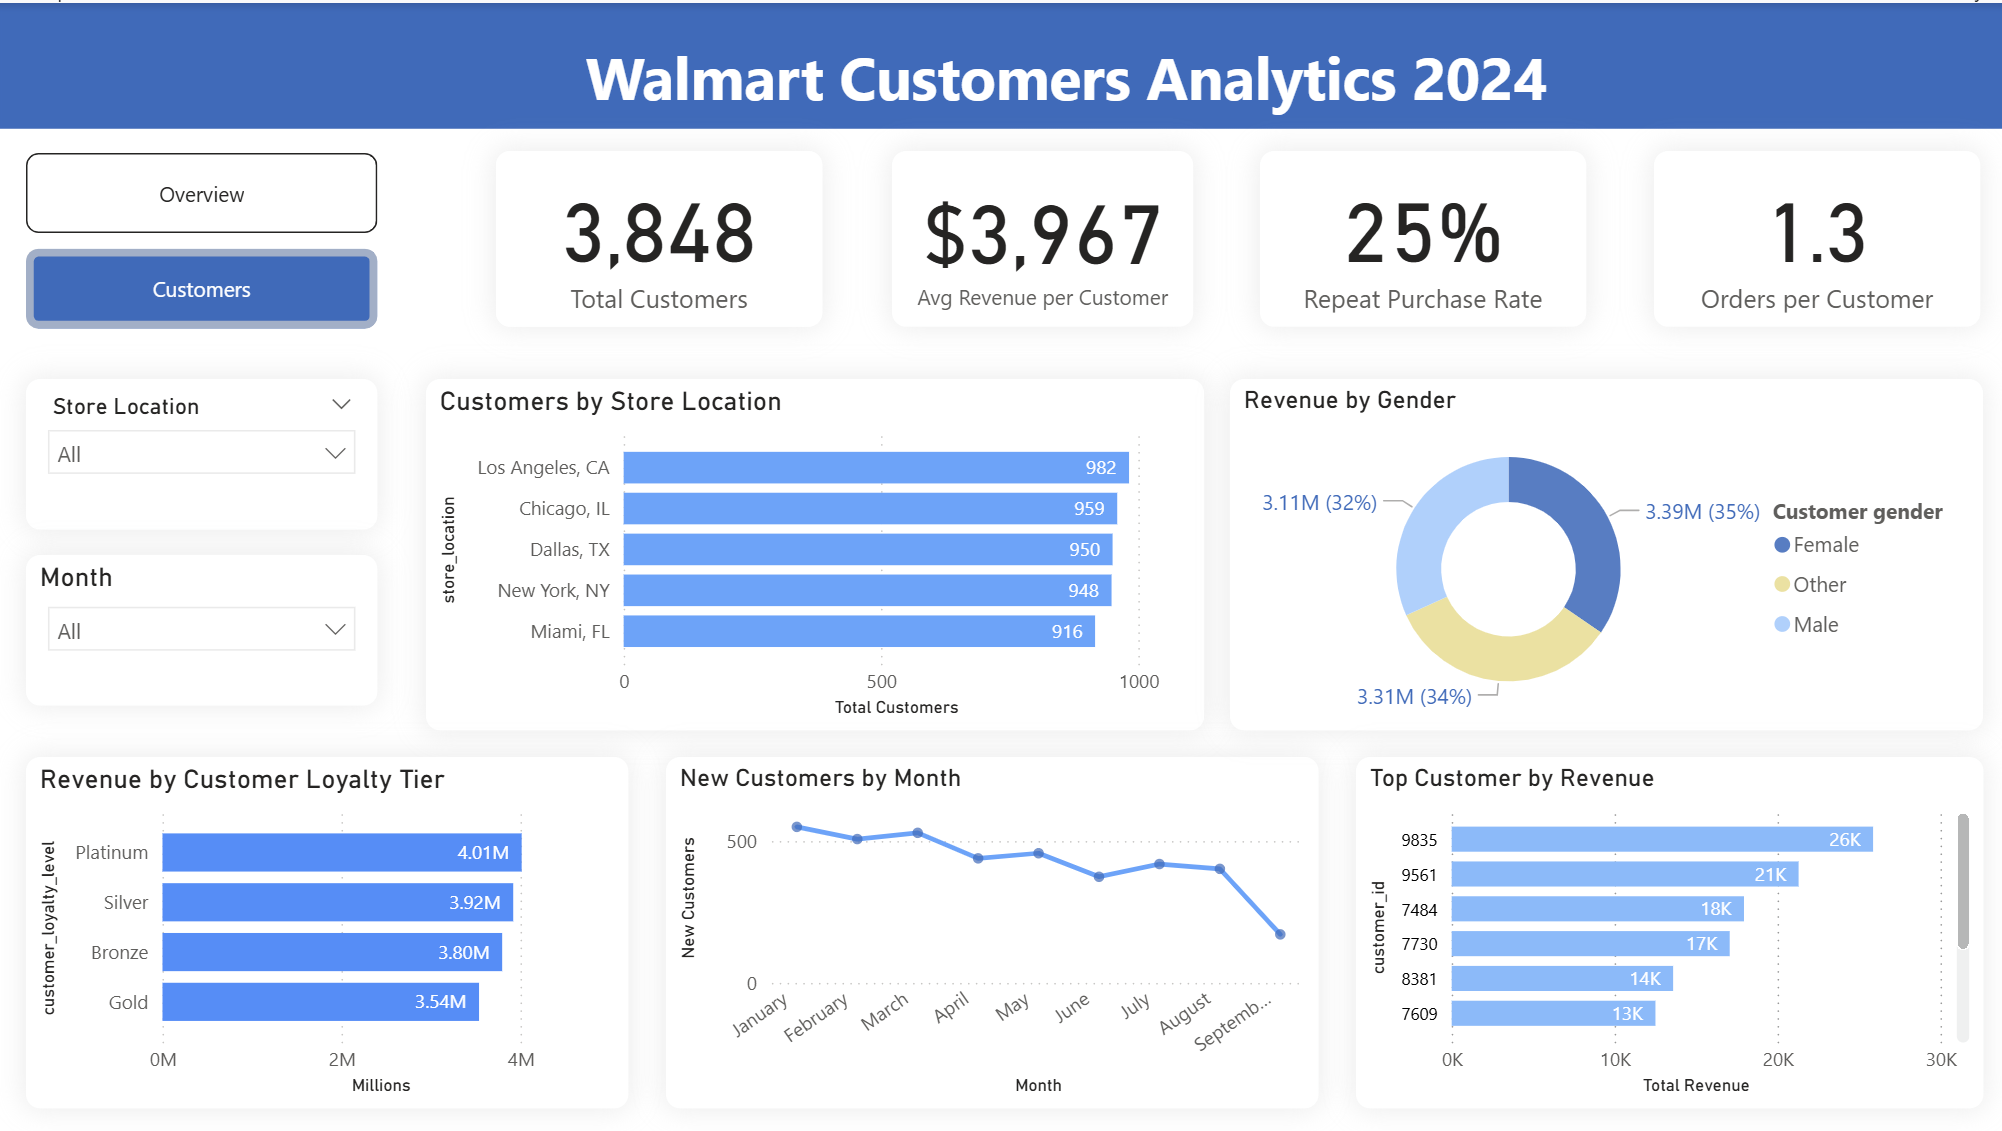

The page's visual inventory and layout, read from the dashboard file:
{"tool":"powerbi","page":{"name":"Customers","canvas":[1280,720],"ordinal":1},"visuals":[{"type":"shape","box":[0,0,1280,80],"z":0},{"type":"textbox","box":[368,16,688,60],"z":1000},{"type":"card","fields":{"Values":["Walmart.Avg Revenue per Customer"]},"box":[568.9,94.3,192,112],"z":2000},{"type":"card","fields":{"Values":["Walmart.Repeat Purchase Rate"]},"box":[803.6,94.3,208,112],"z":3000},{"type":"card","fields":{"Values":["Walmart.Total Customers"]},"box":[316.4,94.8,208,112],"z":4000},{"type":"slicer","fields":{"Values":["Walmart.store_location"]},"box":[16,240,224,96],"z":5000},{"type":"clusteredBarChart","title":"Customers by Store Location","fields":{"Category":["Walmart.store_location"],"Y":["Walmart.Total Customers"]},"box":[272,240,496,224],"z":6000},{"type":"slicer","title":"Month","fields":{"Values":["Walmart.transaction_date.Variation.Date Hierarchy.Month"]},"box":[16,352,224,96],"z":7000},{"type":"pageNavigator","box":[16,96,224,112],"z":8000},{"type":"lineChart","title":"New Customers by Month","fields":{"Category":["Walmart.transaction_date.Variation.Date Hierarchy.Month"],"Y":["Walmart.New Customers"]},"box":[424,480,416,224],"z":9000},{"type":"clusteredBarChart","title":"Revenue by Customer Loyalty Tier","fields":{"Category":["Walmart.customer_loyalty_level"],"Y":["Sum(Walmart.Revenue)"]},"box":[16,480,384,224],"z":10000},{"type":"donutChart","title":"Revenue by Gender","fields":{"Category":["Walmart.customer_gender"],"Y":["Walmart.Total Revenue"]},"box":[784,240,480,224],"z":11000},{"type":"card","fields":{"Values":["Walmart.Orders per Customer"]},"box":[1054.2,94.3,208,112],"z":12000},{"type":"barChart","title":"Top Customer by Revenue","fields":{"Category":["Walmart.customer_id"],"Y":["Walmart.Total Revenue"]},"box":[864,480,400,224],"z":13000}]}

Visuals, with their boxes in screenshot pixels (x1, y1, x2, y2), scaled from the page's 1280x720 canvas onto the 2002x1131 screenshot:
shape: box=[0, 0, 2001, 126]
textbox: box=[576, 25, 1652, 119]
card - Walmart.Avg Revenue per Customer: box=[890, 148, 1190, 324]
card - Walmart.Repeat Purchase Rate: box=[1257, 148, 1582, 324]
card - Walmart.Total Customers: box=[495, 149, 820, 325]
slicer - Walmart.store_location: box=[25, 377, 375, 528]
"Customers by Store Location" clusteredBarChart: box=[425, 377, 1201, 729]
"Month" slicer: box=[25, 553, 375, 704]
pageNavigator: box=[25, 151, 375, 327]
"New Customers by Month" lineChart: box=[663, 754, 1314, 1106]
"Revenue by Customer Loyalty Tier" clusteredBarChart: box=[25, 754, 626, 1106]
"Revenue by Gender" donutChart: box=[1226, 377, 1977, 729]
card - Walmart.Orders per Customer: box=[1649, 148, 1974, 324]
"Top Customer by Revenue" barChart: box=[1351, 754, 1977, 1106]
